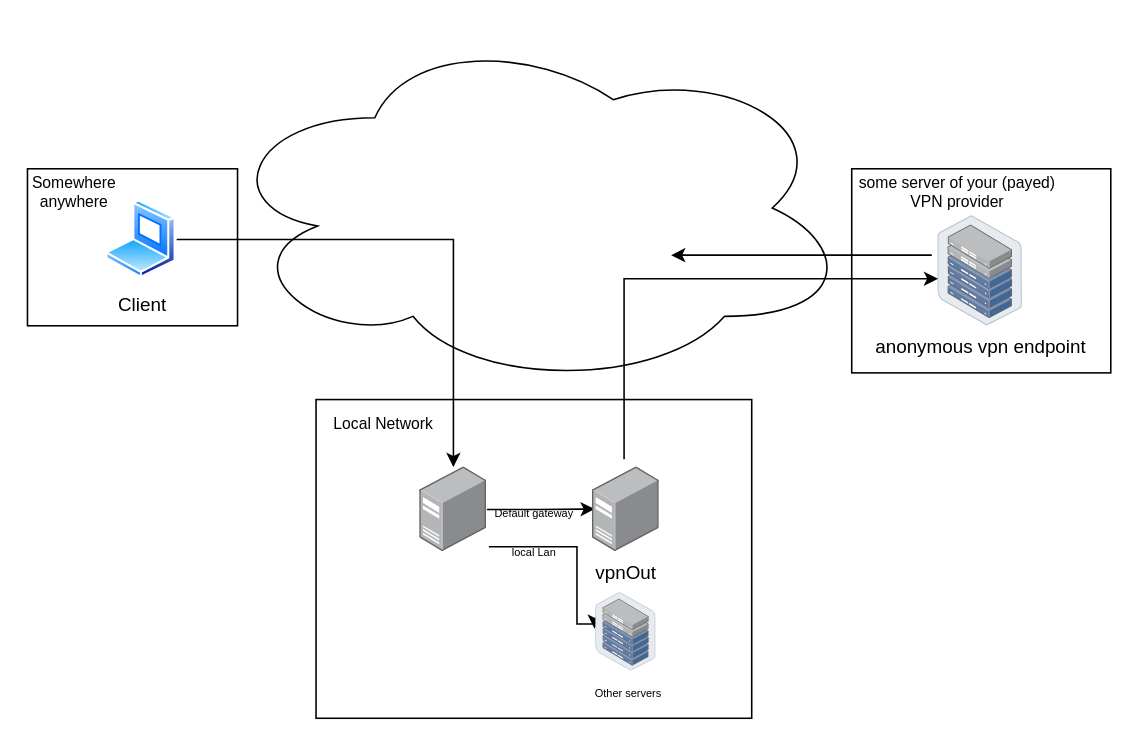
Image size: 1138x746. Some labels were removed from this diagram. The shapes that lost their labels are listed below. From the top down, each one's centre as x and y in pixels, then its label:
At point (533, 207): "Internet".
At point (452, 508): "vpnIN".
